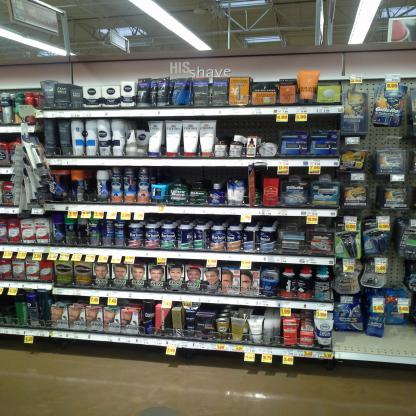Void: (338, 332, 412, 354), (178, 167, 243, 183), (218, 118, 275, 132), (83, 169, 94, 200), (311, 117, 337, 130)
